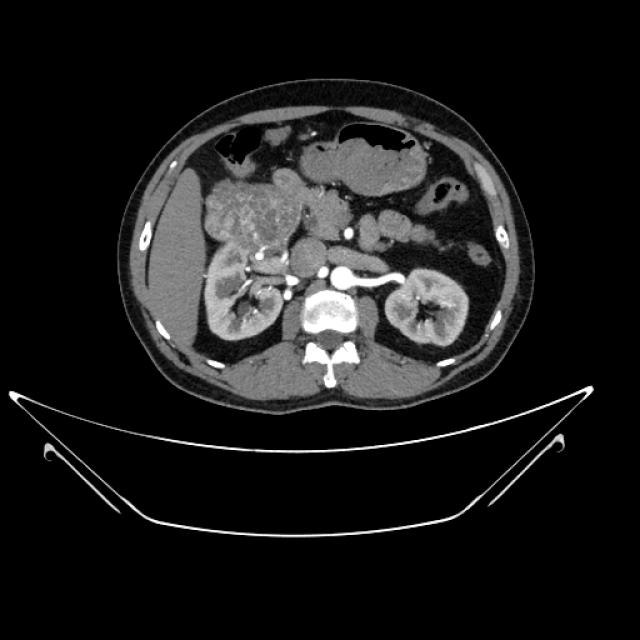Tumor: (204, 178, 322, 330)
